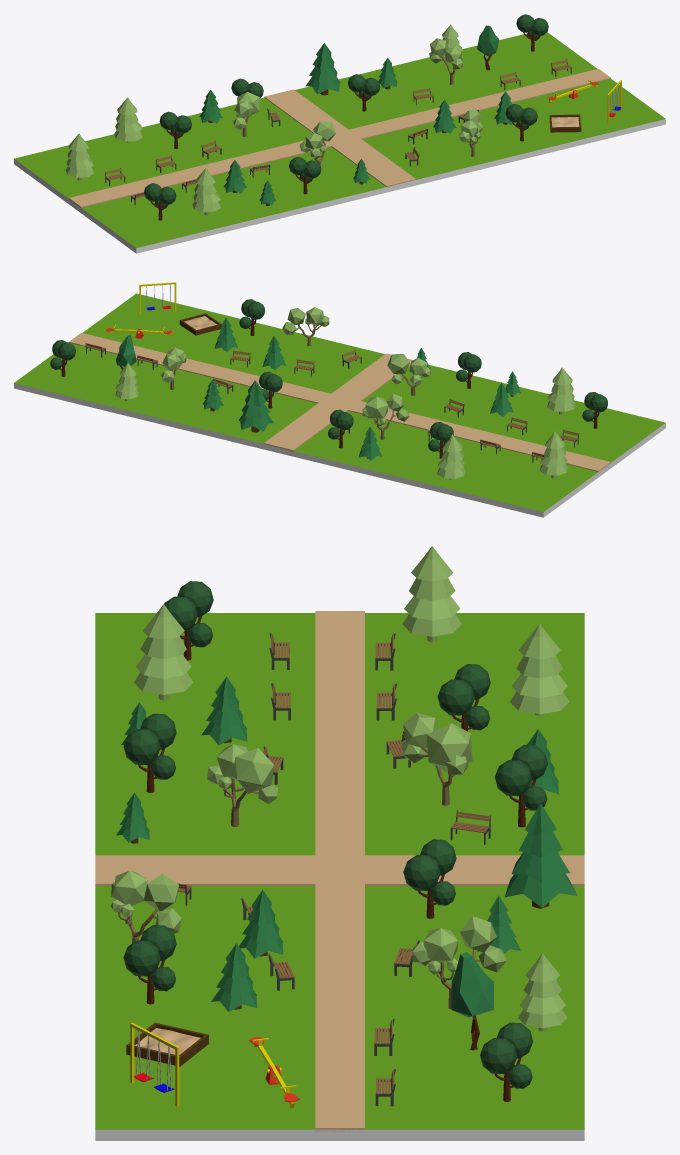
Rendered from Park 2x5.gltf.
The picture shows the model from 3 angles, top to bottom: view 1: azimuth 30°, elevation 25°; view 2: azimuth 150°, elevation 25°; view 3: azimuth 270°, elevation 25°; orthographic projection. The views are drawn at different scales.
Visible parts, largest first — view 1: BAZA 2x2.009, DRVO 3.005, jelke.004, Low poly tree.001, kluice.003, Tree 3.005, Tree 4.012, Tree 4.010, Tree 4.011, Cube.004, Icosphere.002, Cube.002; view 2: BAZA 2x2.009, DRVO 3.005, jelke.004, Low poly tree.001, kluice.003, Tree 4.010, Tree 3.005, Tree 4.011, Cube.004, Tree 4.012, Icosphere.002, Cube.002; view 3: BAZA 2x2.009, DRVO 3.005, Low poly tree.001, jelke.004, kluice.003, Tree 4.010, Tree 4.012, Tree 3.005, Tree 4.011, Icosphere.002, Cube.004, Cube.002.
Part boxes in pixels (left/top/right/bottom): BAZA 2x2.009: left=14, top=32, right=665, bottom=253; DRVO 3.005: left=144, top=14, right=548, bottom=220; jelke.004: left=199, top=43, right=512, bottom=205; Low poly tree.001: left=65, top=24, right=463, bottom=215; kluice.003: left=105, top=59, right=571, bottom=205; Tree 3.005: left=299, top=121, right=335, bottom=167; Tree 4.012: left=429, top=38, right=463, bottom=84; Tree 4.010: left=233, top=92, right=259, bottom=136; Tree 4.011: left=459, top=109, right=482, bottom=156; Cube.004: left=549, top=114, right=581, bottom=132; Icosphere.002: left=477, top=25, right=498, bottom=70; Cube.002: left=607, top=80, right=621, bottom=124; BAZA 2x2.009: left=14, top=293, right=665, bottom=517; DRVO 3.005: left=50, top=299, right=607, bottom=458; jelke.004: left=203, top=318, right=521, bottom=460; Low poly tree.001: left=115, top=363, right=575, bottom=479; kluice.003: left=85, top=343, right=579, bottom=462; Tree 4.010: left=362, top=393, right=409, bottom=439; Tree 3.005: left=387, top=354, right=430, bottom=395; Tree 4.011: left=282, top=307, right=329, bottom=346; Cube.004: left=179, top=313, right=221, bottom=335; Tree 4.012: left=161, top=347, right=186, bottom=389; Icosphere.002: left=116, top=335, right=136, bottom=369; Cube.002: left=139, top=282, right=176, bottom=314; BAZA 2x2.009: left=95, top=611, right=584, bottom=1140; DRVO 3.005: left=123, top=581, right=547, bottom=1101; Low poly tree.001: left=134, top=546, right=569, bottom=1031; jelke.004: left=116, top=676, right=577, bottom=1011; kluice.003: left=177, top=633, right=490, bottom=1106; Tree 4.010: left=401, top=712, right=472, bottom=805; Tree 4.012: left=412, top=916, right=506, bottom=1009; Tree 3.005: left=207, top=744, right=277, bottom=826; Tree 4.011: left=110, top=870, right=181, bottom=943; Icosphere.002: left=451, top=952, right=493, bottom=1050; Cube.004: left=126, top=1022, right=208, bottom=1066; Cube.002: left=130, top=1023, right=179, bottom=1106.
Bounding box in the file's own units: 10 × 1.02 × 4.
